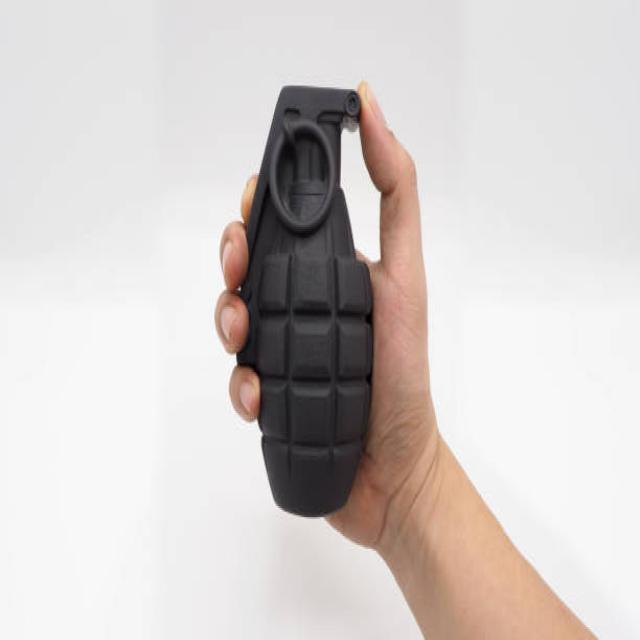grenade: (234, 86, 380, 525)
